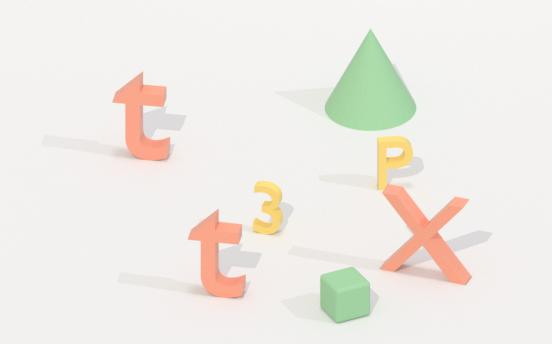3: (249, 178, 289, 236)
hop: (316, 265, 376, 325)
non: (320, 34, 420, 128)
p: (374, 133, 419, 195)
s: (107, 69, 173, 163)
t: (185, 207, 251, 301)
x: (375, 186, 480, 284)
